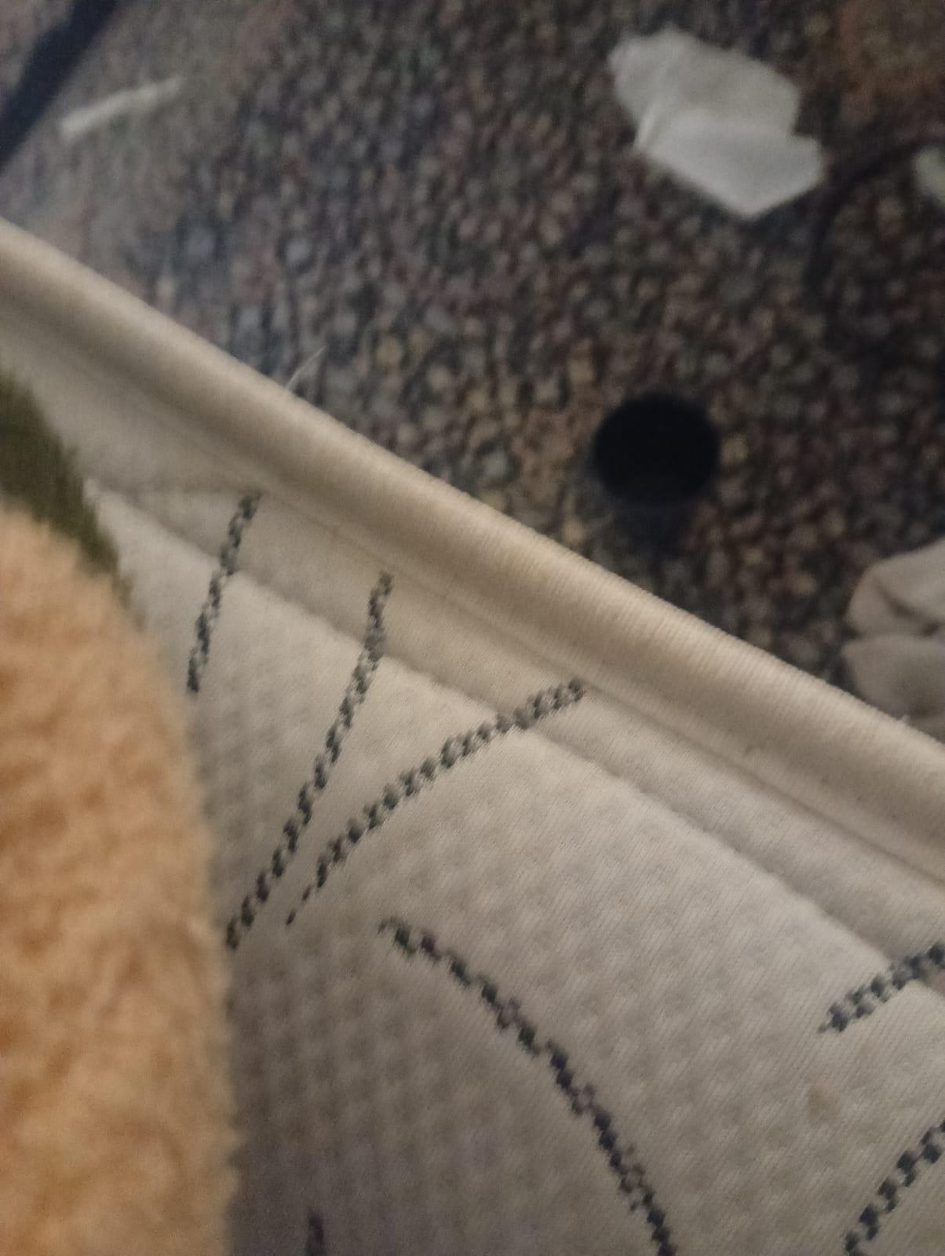cup: (590, 390, 721, 550)
